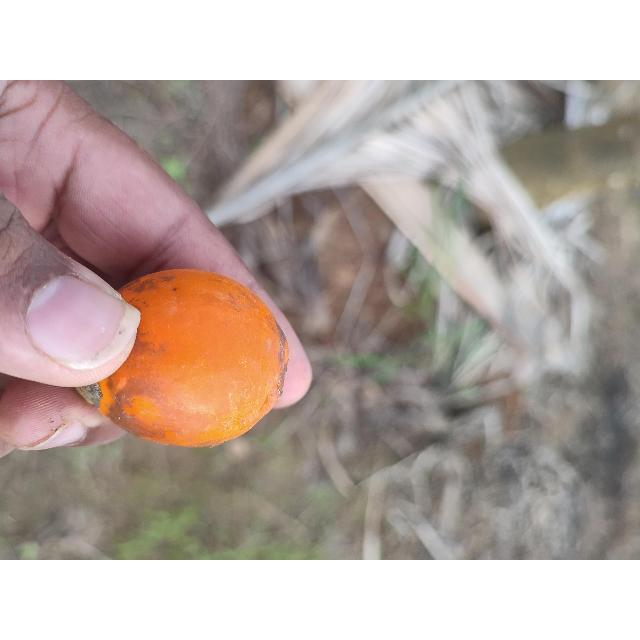good: (75, 269, 290, 448)
